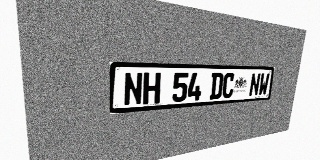4: (187, 73, 203, 101)
5: (172, 73, 189, 102)
C: (221, 73, 235, 99)
D: (209, 73, 224, 99)
H: (143, 72, 161, 105)
N: (123, 72, 143, 106), (249, 73, 261, 96)
W: (258, 73, 270, 96)
